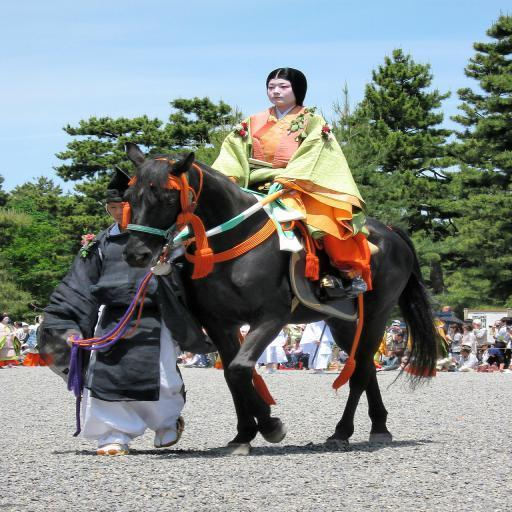horse: (120, 140, 445, 456)
